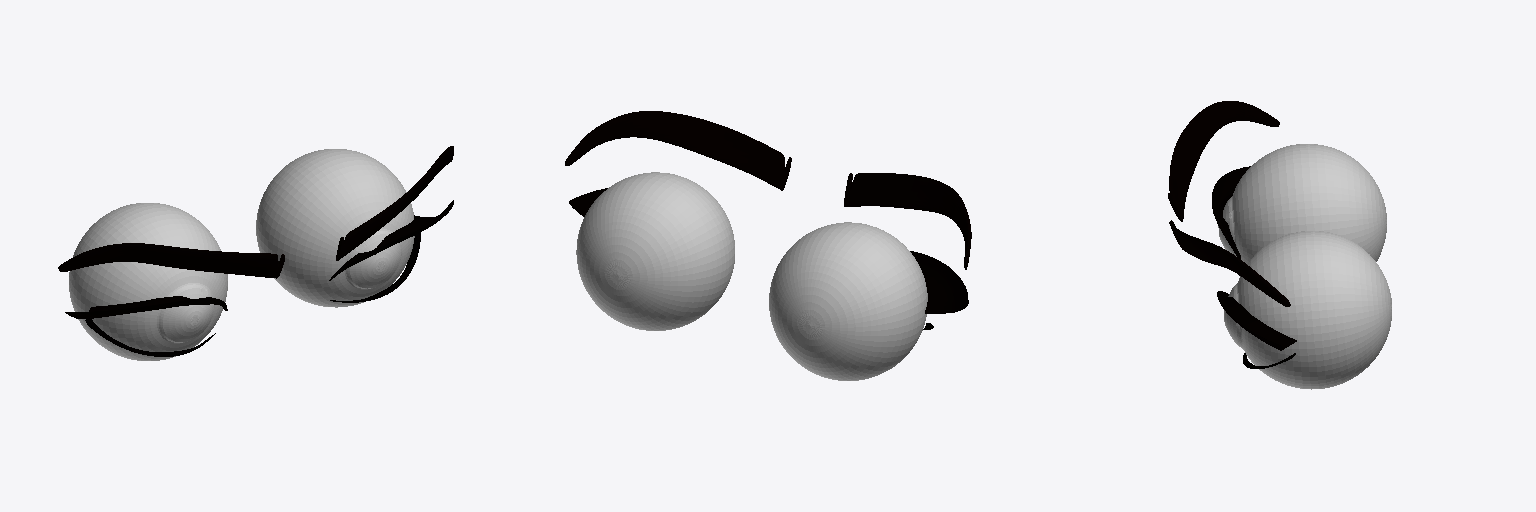
The model's file is ojoV2obj.obj.
The picture shows the model from 3 angles: view 1: azimuth 30°, elevation 25°; view 2: azimuth 150°, elevation 25°; view 3: azimuth 270°, elevation 25°; orthographic projection.
Parts seen in each view (by area): view 1: Sphere.001, Plane.006, Plane.007, Plane.008; view 2: Sphere.001, Plane.006, Plane.007; view 3: Sphere.001, Plane.006, Plane.007.
Part boxes in pixels (left/top/right/bottom): Sphere.001: left=69, top=149, right=414, bottom=360; Plane.006: left=58, top=146, right=453, bottom=278; Plane.007: left=65, top=200, right=453, bottom=318; Plane.008: left=85, top=232, right=420, bottom=356; Sphere.001: left=576, top=172, right=927, bottom=380; Plane.006: left=565, top=111, right=971, bottom=269; Plane.007: left=569, top=188, right=968, bottom=313; Sphere.001: left=1218, top=144, right=1391, bottom=389; Plane.006: left=1168, top=101, right=1290, bottom=306; Plane.007: left=1212, top=166, right=1296, bottom=350.
Size of the model in its own units: 1.93 by 0.7914 by 0.9492.